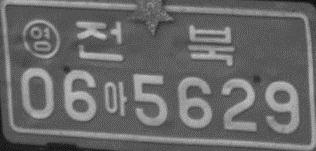0: (19, 67, 55, 120)
2: (220, 77, 258, 131)
5: (132, 72, 169, 127)
6: (176, 75, 213, 131), (61, 69, 98, 122)
9: (264, 79, 300, 135)
아: (104, 81, 127, 117)
영: (22, 18, 61, 60)
전북_D: (74, 20, 236, 66)
